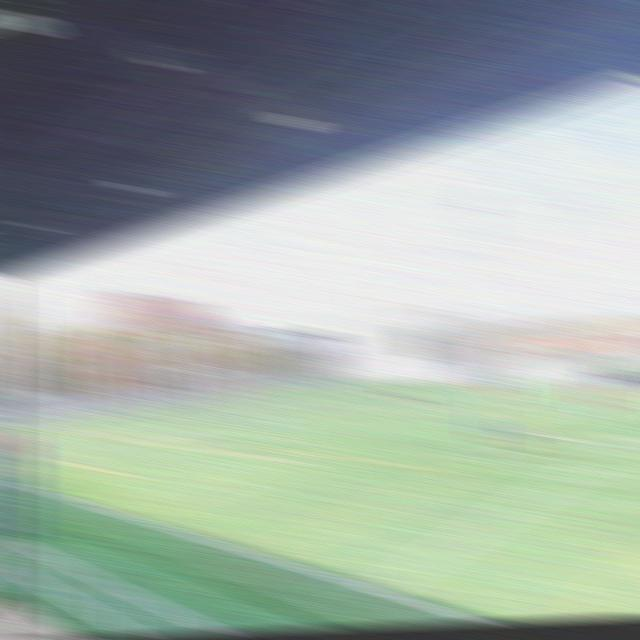bigarea_bottom_inner: (113, 431, 138, 443)
bigarea_bottom_outter: (29, 422, 54, 433)
bigarea_top_inner: (398, 387, 421, 398)
bigarea_top_outter: (306, 388, 331, 396)
bottom_arc_area_intersection: (242, 411, 269, 422)
corner: (355, 381, 378, 390)
halfcircle_bottom: (612, 436, 640, 454)
midline_bottom_intersection: (356, 564, 401, 616)
smallarea_bottom_inner: (154, 411, 179, 421)
smallarea_bottom_outter: (131, 410, 155, 419)
top_arc_area_intersection: (337, 395, 361, 407)
